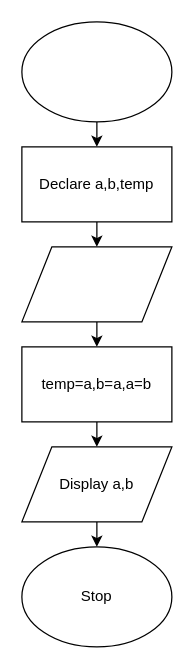
Image size: 194x669. Some labels were removed from this diagram. Here are the shapes that lost their labels. From the top down, the centre of each, then its label:
the point at 96,71: Start
the point at 96,284: Read a,b
